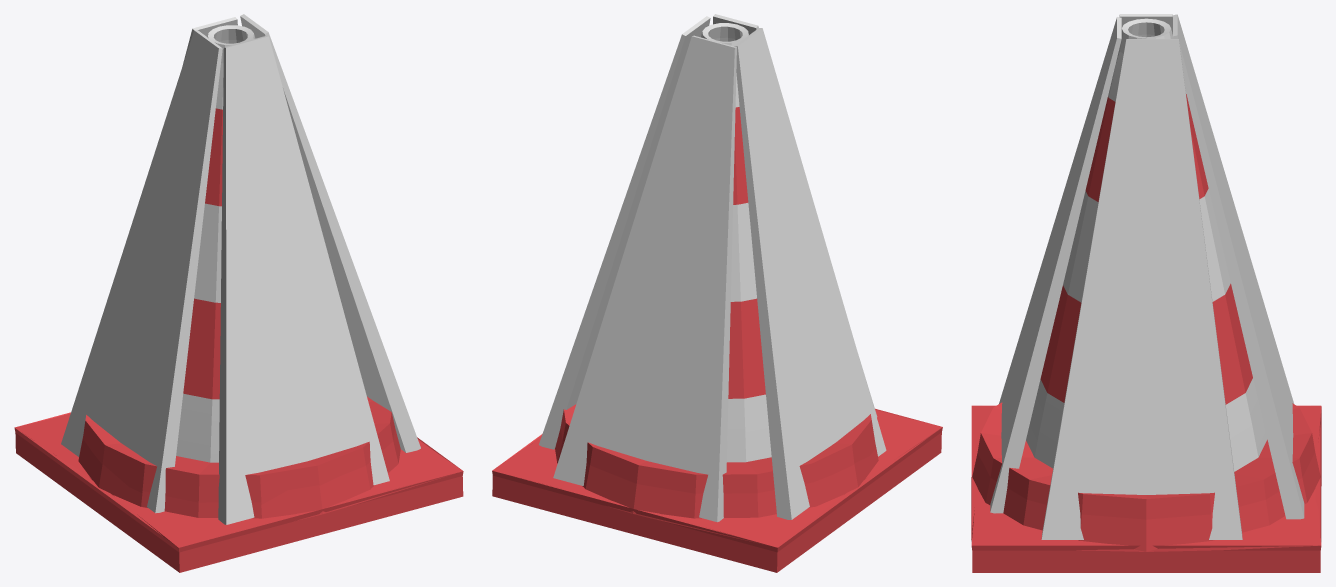
The model's file is plot3d.fbx.
The picture shows the model from 3 angles, left to right: view 1: azimuth 30°, elevation 25°; view 2: azimuth 150°, elevation 25°; view 3: azimuth 270°, elevation 25°; orthographic projection. The views are drawn at different scales.
Visible parts, largest first — view 1: Cube, Cylinder, Cube.001, Cube.003; view 2: Cube.002, Cylinder, Cube.001, Cube.003; view 3: Cube.003, Cylinder, Cube.002, Cube.
Boxes of the visible parts, x1=… form: Cube: x1=218, y1=35, x2=389, y2=524; Cylinder: x1=14, y1=25, x2=463, y2=572; Cube.001: x1=61, y1=30, x2=222, y2=513; Cube.003: x1=240, y1=14, x2=420, y2=452; Cube.002: x1=553, y1=35, x2=736, y2=522; Cylinder: x1=492, y1=23, x2=942, y2=572; Cube.001: x1=734, y1=28, x2=886, y2=519; Cube.003: x1=539, y1=16, x2=710, y2=449; Cube.003: x1=1041, y1=39, x2=1242, y2=539; Cylinder: x1=971, y1=18, x2=1321, y2=572; Cube.002: x1=1173, y1=14, x2=1304, y2=519; Cube: x1=990, y1=17, x2=1121, y2=513.
Size of the model in its own units: 274 by 410 by 273.
